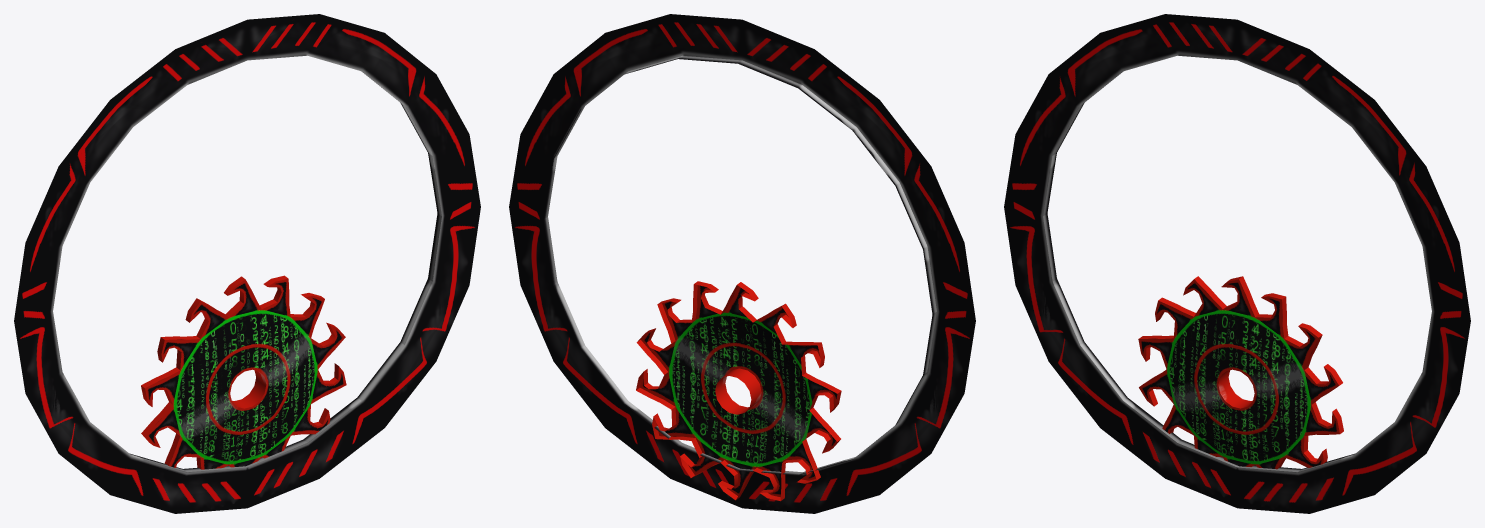
File: Saw_txt.dae
The picture shows the model from 3 angles, left to right: view 1: azimuth 30°, elevation 25°; view 2: azimuth 150°, elevation 25°; view 3: azimuth 330°, elevation 25°; orthographic projection.
Parts seen in each view (by area): view 1: Round_corridor_cyberpunk_Traps_v1, Round_corridor_cyberpunk_Traps_v1_gears; view 2: Round_corridor_cyberpunk_Traps_v1, Round_corridor_cyberpunk_Traps_v1_gears; view 3: Round_corridor_cyberpunk_Traps_v1, Round_corridor_cyberpunk_Traps_v1_gears.
Part boxes in pixels (left/top/right/bottom): Round_corridor_cyberpunk_Traps_v1: left=14, top=14, right=480, bottom=513; Round_corridor_cyberpunk_Traps_v1_gears: left=141, top=275, right=346, bottom=469; Round_corridor_cyberpunk_Traps_v1: left=509, top=14, right=975, bottom=513; Round_corridor_cyberpunk_Traps_v1_gears: left=636, top=281, right=841, bottom=501; Round_corridor_cyberpunk_Traps_v1: left=1004, top=14, right=1470, bottom=513; Round_corridor_cyberpunk_Traps_v1_gears: left=1138, top=276, right=1343, bottom=469.
Bounding box in the file's own units: 16.56 × 0.6275 × 16.56.
1 material, 1 textured.
